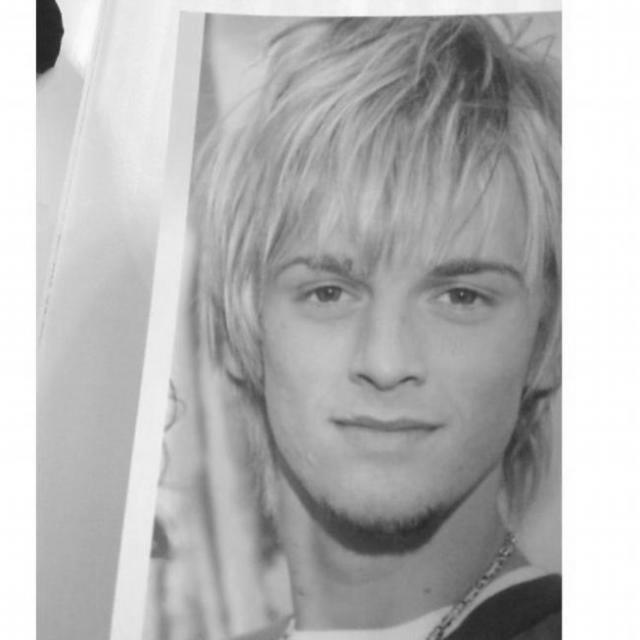fake: (98, 2, 563, 640)
